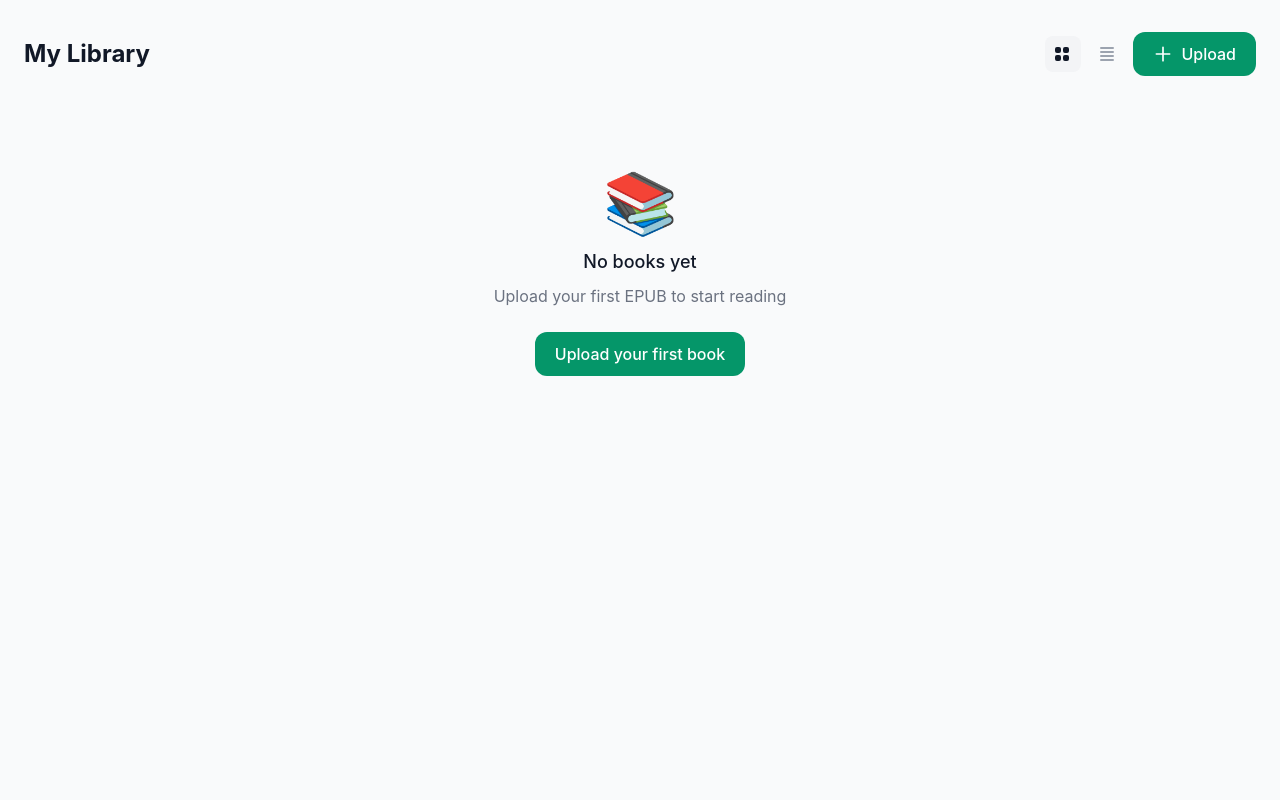
Test: LibraryPage › closes dialog when cancel is clicked
Click the button "Upload".
click(1195, 54)  # box [1133,32,1256,76]
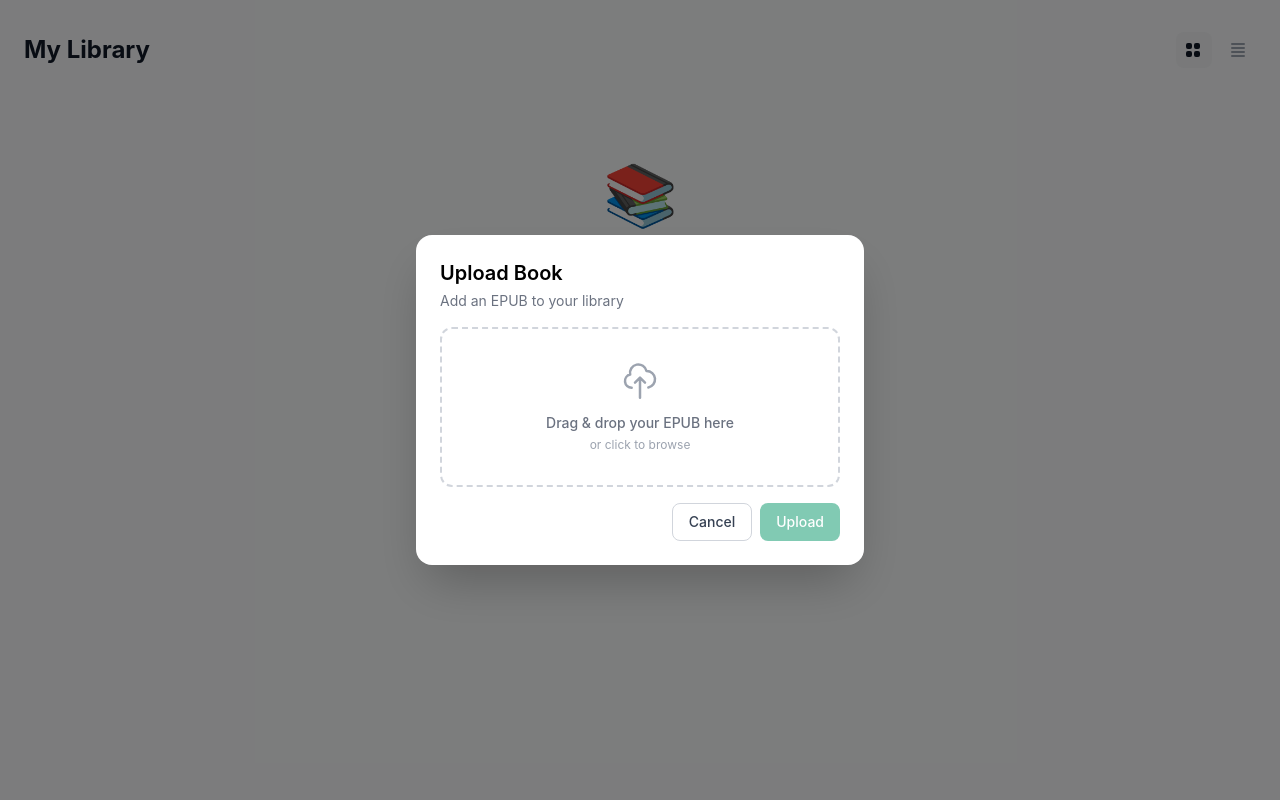
Result: the heading "Upload Book" is shown at [440,261,563,285]
Click the button "Cancel".
click(712, 522)  # box [672,503,752,541]
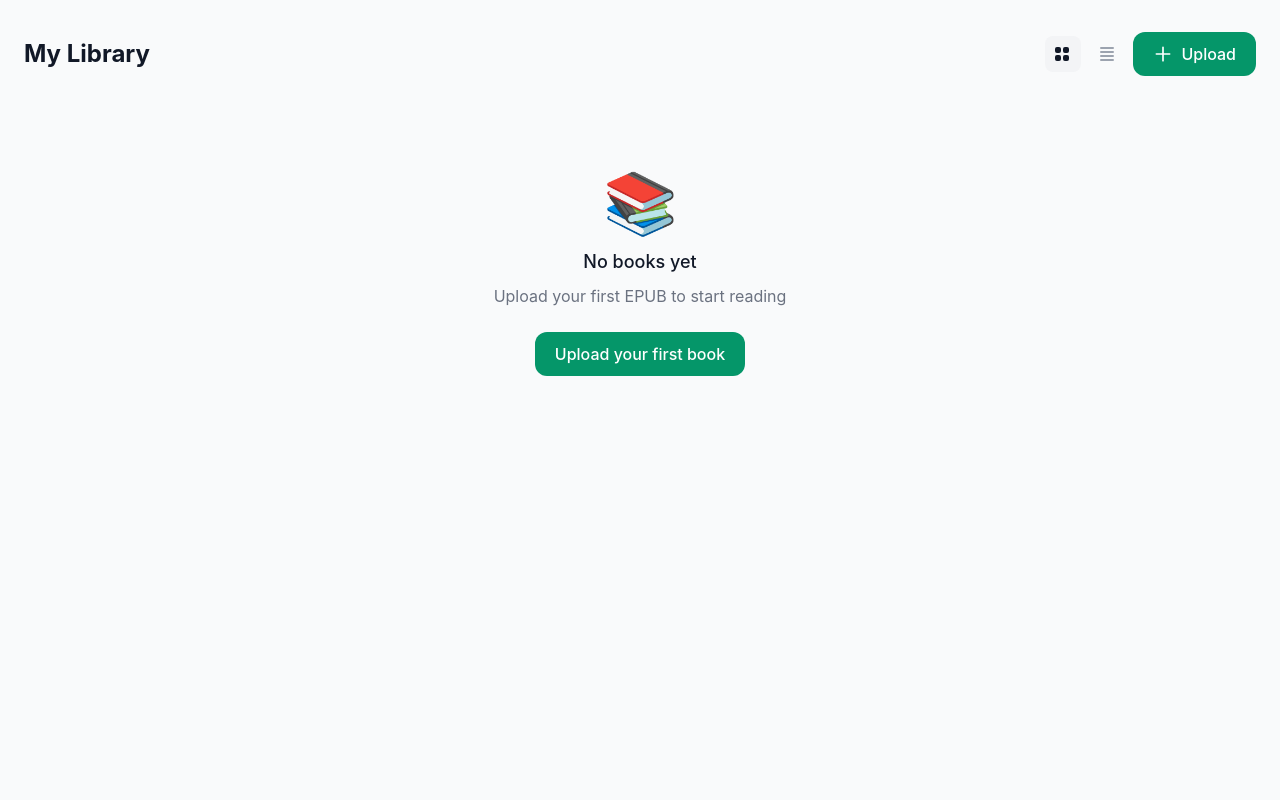
Result: the heading "Upload Book" is gone
